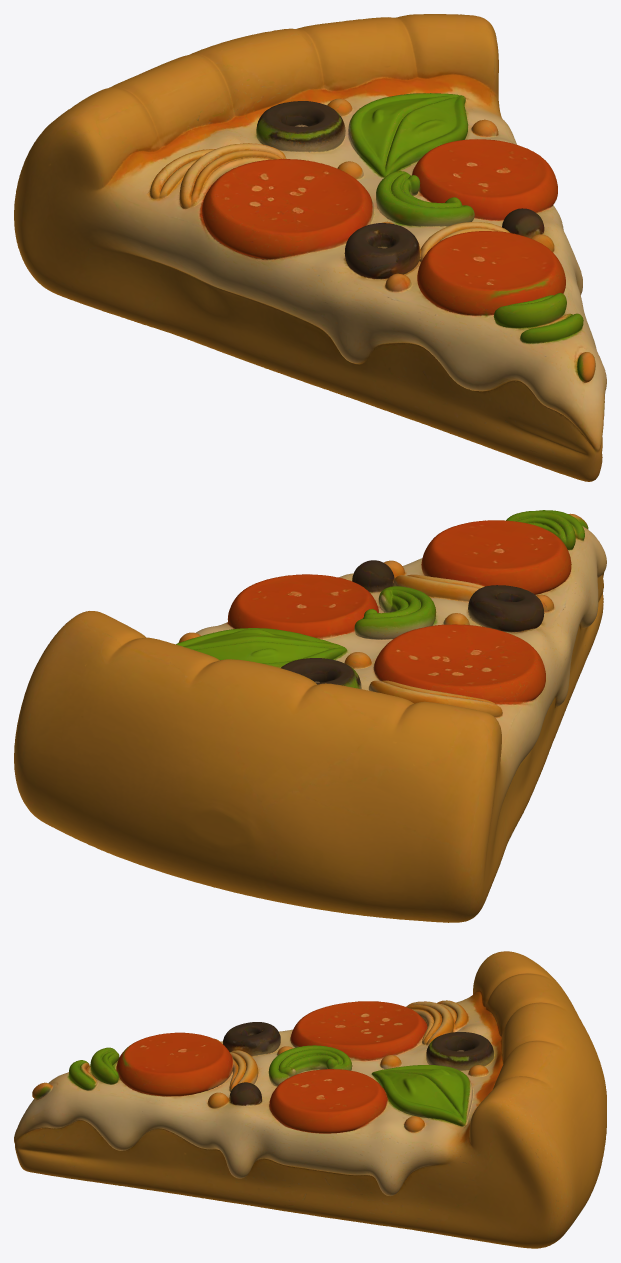
Rendered from pizza.glb.
The picture shows the model from 3 angles, top to bottom: view 1: azimuth 30°, elevation 25°; view 2: azimuth 150°, elevation 25°; view 3: azimuth 270°, elevation 25°; orthographic projection. The views are drawn at different scales.
Visible parts, largest first — view 1: texture_pbr_v128; view 2: texture_pbr_v128; view 3: texture_pbr_v128.
Part boxes in pixels (<box>): texture_pbr_v128: <box>14,14,606,481</box>; texture_pbr_v128: <box>14,510,606,922</box>; texture_pbr_v128: <box>14,951,606,1248</box>.
Bounding box in the file's own units: 0.7409 × 0.3171 × 1.07.
Materials: 1 (1 with a texture image).
